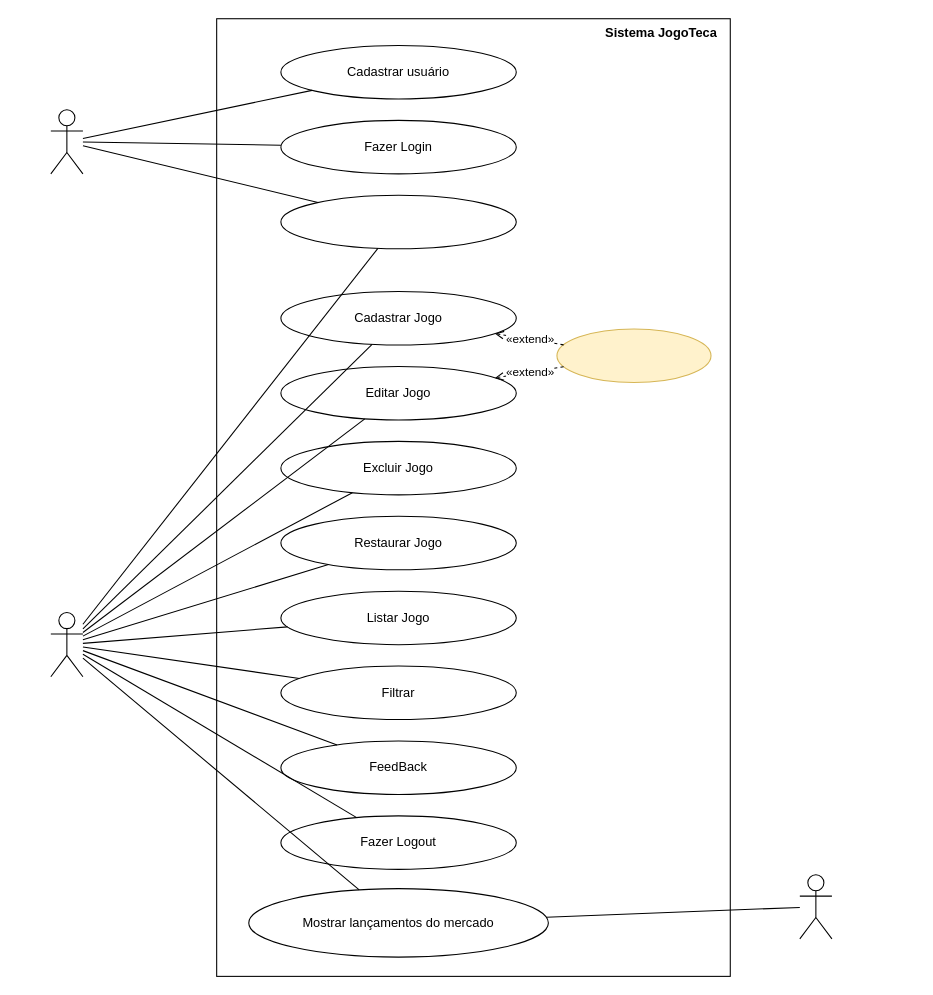
This 933x995 diagram has some shape labels left out. The shapes that lost their labels are listed below. From the top down, each one's centre as x and y in pixels, then its label:
pixel 66 141: Usuário
pixel 398 221: Escolher Idioma
pixel 633 355: Enviar Capa
pixel 66 644: Usuário Logado
pixel 815 906: Serviço externo de lançamentos
